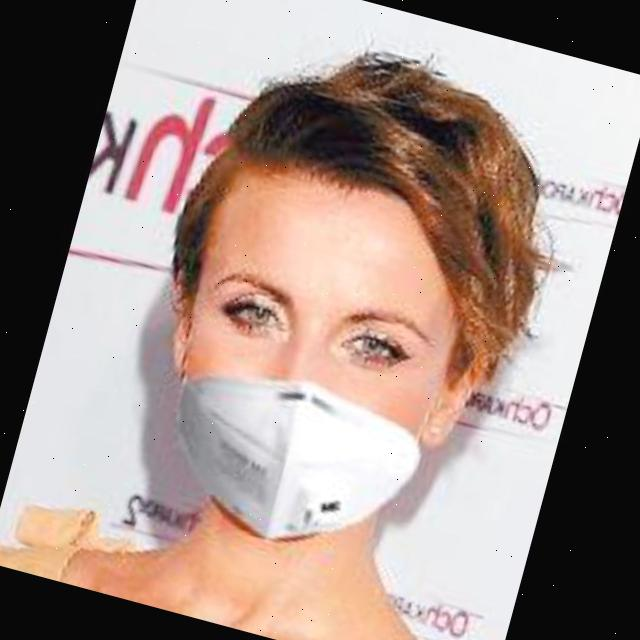suspicion: (104, 39, 520, 572)
